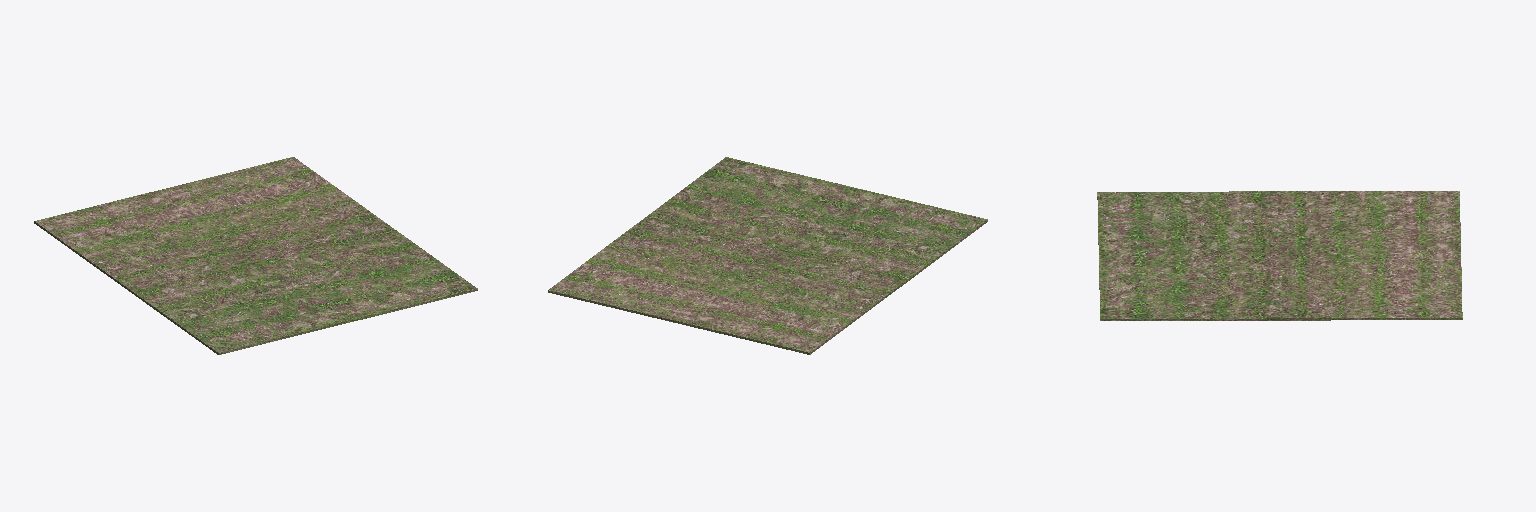
3 views of the same model, side by side, from view 1: azimuth 30°, elevation 25°; view 2: azimuth 150°, elevation 25°; view 3: azimuth 270°, elevation 25° (orthographic).
Parts seen in each view (by area): view 1: Box001; view 2: Box001; view 3: Box001.
Part boxes in pixels (x1,y1,x2,y2): Box001: (34,157,477,354); Box001: (548,157,987,354); Box001: (1097,191,1462,320).
Bounding box in the file's own units: 113 × 0.9296 × 136.
Materials: 1 (1 with a texture image).